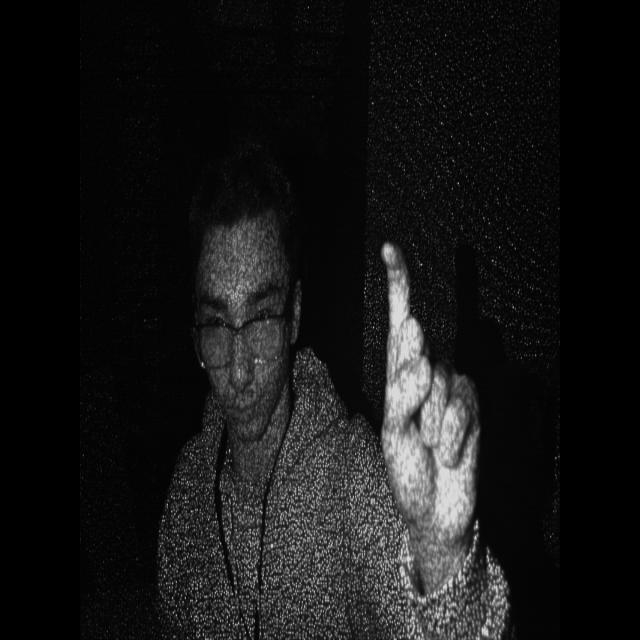X: (373, 222, 490, 567)
